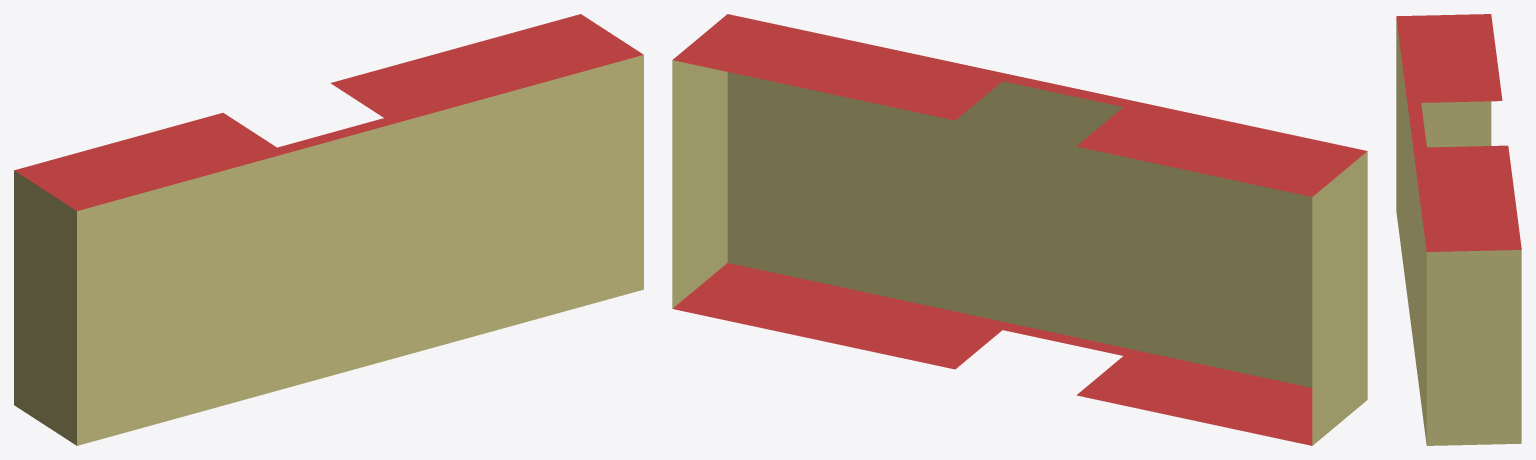
3 renders of one model, left to right at view 1: azimuth 30°, elevation 25°; view 2: azimuth 150°, elevation 25°; view 3: azimuth 270°, elevation 25°, orthographic. The views are drawn at different scales.
Bounding box in the file's own units: 20.51 × 4.57 × 7.79.
